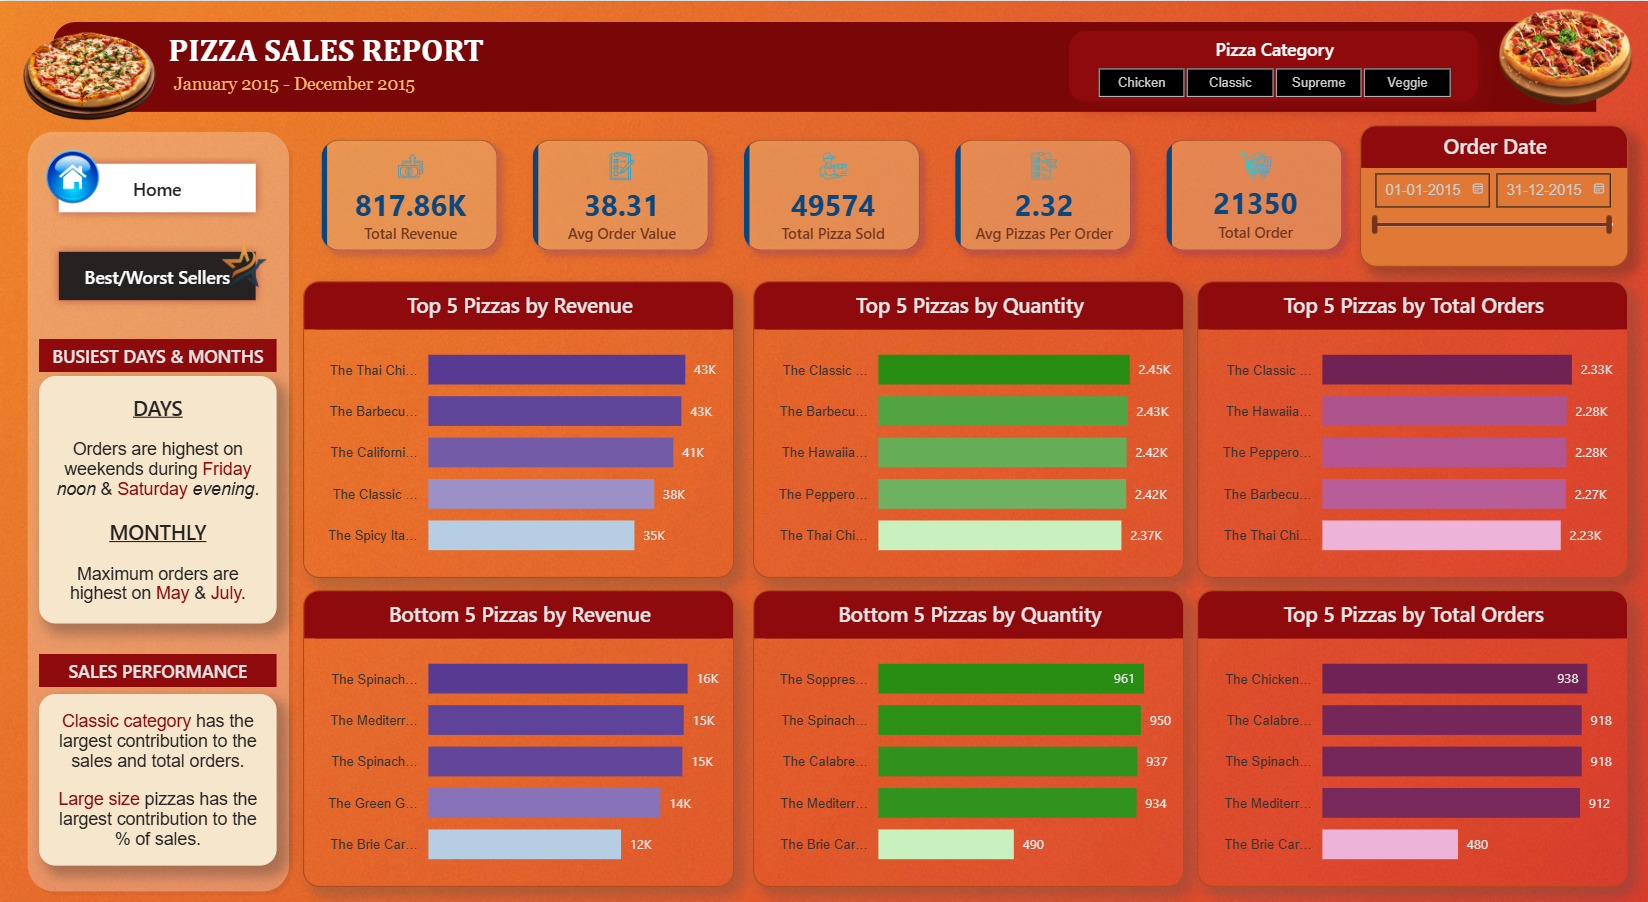

This screenshot's page, from the dashboard's own definition file:
{"tool":"powerbi","page":{"name":"Best/Worst Sellers","canvas":[1500,820],"ordinal":1},"visuals":[{"type":"shape","box":[48,18.8,1403,81.7],"z":0},{"type":"textbox","title":"BUSIEST DAYS & MONTHS","box":[35,307,216,30],"z":0,"group":"g1"},{"type":"textbox","title":"SALES PERFORMANCE","box":[35,594,216,30],"z":0,"group":"g2"},{"type":"cardVisual","fields":{"Data":["pizza_sales.Total Revenue","pizza_sales.Avg Order Value","pizza_sales.Total Pizza Sold","pizza_sales.Avg Pizzas Per Order","pizza_sales.Total Order"]},"box":[276,110.4,960.4,133.3],"z":1000},{"type":"textbox","title":"DAYS","box":[35,341,216,225],"z":1000,"group":"g1"},{"type":"textbox","title":"DAYS","box":[35,630,216,156],"z":1000,"group":"g2"},{"type":"textbox","title":"PIZZA SALES REPORT","box":[123,26.8,347.9,41.9],"z":2000},{"type":"image","box":[19.8,22.9,122.9,90.6],"z":3000},{"type":"textbox","title":"January 2015 - December 2015","box":[118.8,65.1,296.9,28.8],"z":4000},{"type":"image","box":[1361.5,5.2,122.9,91.1],"z":5000},{"type":"slicer","title":"Pizza Category","fields":{"Values":["pizza_sales.pizza_category"]},"box":[971.9,27.1,371.9,63.5],"z":6000},{"type":"slicer","title":"Order Date","fields":{"Values":["pizza_sales.order_date"]},"box":[1236.5,112.5,243.8,129.2],"z":7000},{"type":"clusteredBarChart","title":"Top 5 Pizzas by Total Orders","fields":{"Y":["pizza_sales.Total Order"],"Category":["pizza_sales.pizza_name"]},"box":[1087.8,254.4,392.2,270],"z":12000},{"type":"shape","box":[19.8,113.5,247.9,701],"z":13000},{"type":"pageNavigator","box":[45,140,195,140],"z":14000},{"type":"image","box":[35,133,61,54],"z":15000},{"type":"image","box":[194,201,57,78],"z":16000},{"type":"group","id":"g1","title":"Group 1","box":[35,307,216,259],"z":17000},{"type":"group","id":"g2","title":"Group 1","box":[35,594,216,192],"z":18000},{"type":"clusteredBarChart","title":"Top 5 Pizzas by Quantity","fields":{"Category":["pizza_sales.pizza_name"],"Y":["Sum(pizza_sales.quantity)"]},"box":[684.4,254.4,392.2,270],"z":18001},{"type":"clusteredBarChart","title":"Top 5 Pizzas by Revenue","fields":{"Category":["pizza_sales.pizza_name"],"Y":["pizza_sales.Total Revenue"]},"box":[275.6,254.4,392.2,270],"z":18002},{"type":"clusteredBarChart","title":"Bottom 5 Pizzas by Revenue","fields":{"Category":["pizza_sales.pizza_name"],"Y":["pizza_sales.Total Revenue"]},"box":[275.6,535.6,392.2,270],"z":18003},{"type":"clusteredBarChart","title":"Bottom 5 Pizzas by Quantity","fields":{"Category":["pizza_sales.pizza_name"],"Y":["Sum(pizza_sales.quantity)"]},"box":[684.4,535.6,392.2,270],"z":18004},{"type":"clusteredBarChart","title":"Top 5 Pizzas by Total Orders","fields":{"Y":["pizza_sales.Total Order"],"Category":["pizza_sales.pizza_name"]},"box":[1087.8,535.6,392.2,270],"z":18005}]}

Visuals, with their boxes in screenshot pixels (x1, y1, x2, y2), scaled from the page's 1500x820 canvas onto the 1648x902 screenshot:
shape: (53, 21, 1594, 111)
"BUSIEST DAYS & MONTHS" textbox: (38, 338, 276, 371)
"SALES PERFORMANCE" textbox: (38, 653, 276, 686)
cardVisual - pizza_sales.Total Revenue x pizza_sales.Avg Order Value: (303, 121, 1358, 268)
"DAYS" textbox: (38, 375, 276, 623)
"DAYS" textbox: (38, 693, 276, 865)
"PIZZA SALES REPORT" textbox: (135, 29, 517, 76)
image: (22, 25, 157, 125)
"January 2015 - December 2015" textbox: (131, 72, 457, 103)
image: (1496, 6, 1631, 106)
"Pizza Category" slicer: (1068, 30, 1476, 100)
"Order Date" slicer: (1359, 124, 1626, 266)
"Top 5 Pizzas by Total Orders" clusteredBarChart: (1195, 280, 1626, 577)
shape: (22, 125, 294, 896)
pageNavigator: (49, 154, 264, 308)
image: (38, 146, 105, 206)
image: (213, 221, 276, 307)
"Group 1" group: (38, 338, 276, 623)
"Group 1" group: (38, 653, 276, 865)
"Top 5 Pizzas by Quantity" clusteredBarChart: (752, 280, 1183, 577)
"Top 5 Pizzas by Revenue" clusteredBarChart: (303, 280, 734, 577)
"Bottom 5 Pizzas by Revenue" clusteredBarChart: (303, 589, 734, 886)
"Bottom 5 Pizzas by Quantity" clusteredBarChart: (752, 589, 1183, 886)
"Top 5 Pizzas by Total Orders" clusteredBarChart: (1195, 589, 1626, 886)
